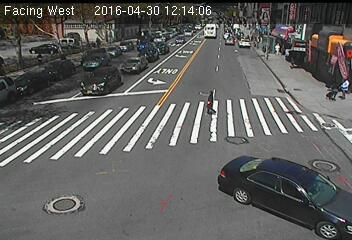pos: (199, 88, 221, 117), (326, 83, 341, 102), (269, 38, 283, 57), (337, 75, 351, 93)
